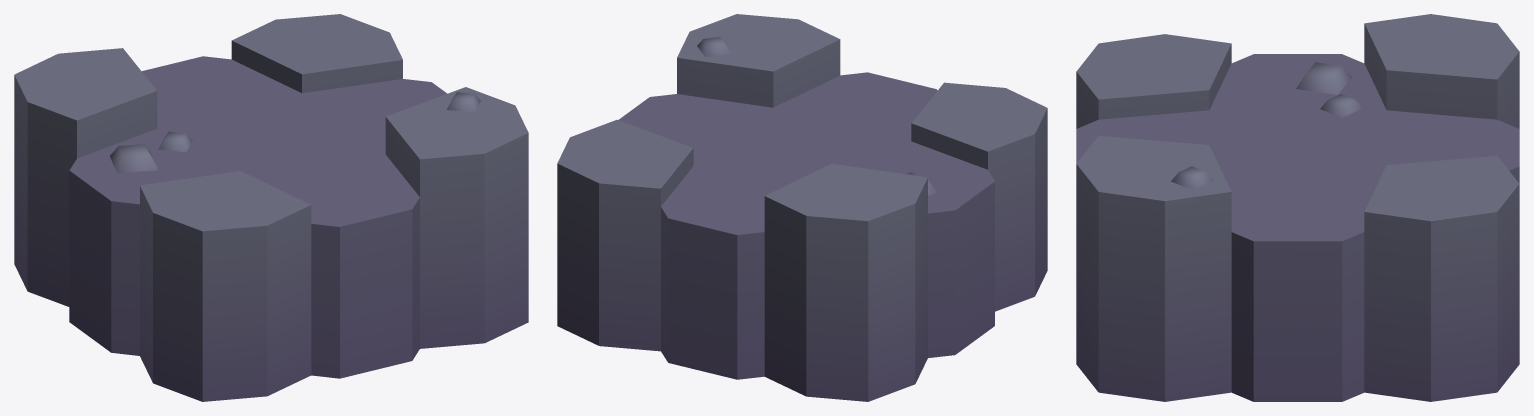
The model's file is rocks-low.glb.
3 views of the same model, side by side, from view 1: azimuth 30°, elevation 25°; view 2: azimuth 150°, elevation 25°; view 3: azimuth 270°, elevation 25° (orthographic). The views are drawn at different scales.
Visible parts, largest first — view 1: rocks-low; view 2: rocks-low; view 3: rocks-low.
Boxes of the visible parts, bbox=[...] form: rocks-low: bbox=[14, 14, 528, 401]; rocks-low: bbox=[557, 14, 1047, 401]; rocks-low: bbox=[1076, 14, 1519, 401].
Bounding box in the file's own units: 1 × 0.5228 × 1.
